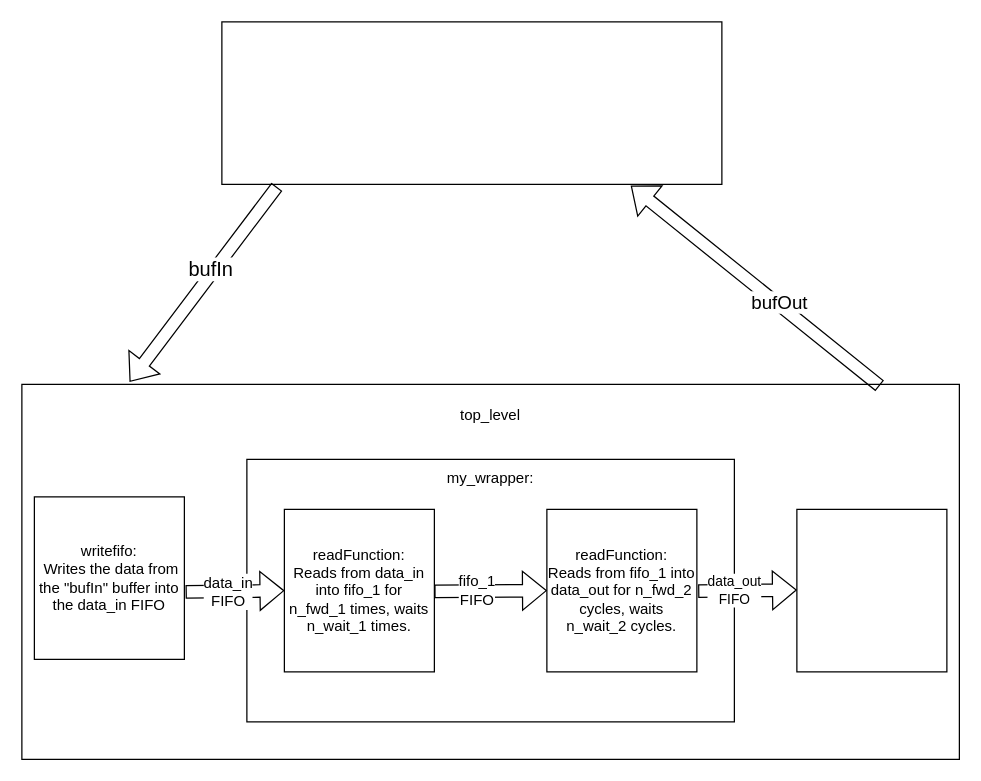
The diagram is 981 pixels wide and 781 high, and some of its shapes have lost their labels. Here are the shapes that lost their labels. From the top down, the centre of each, then its label:
pixel 471 102: CPU
pixel 871 590: read_fifo : Reads the data int the "bufOut" buffer from the data_out FIFO
